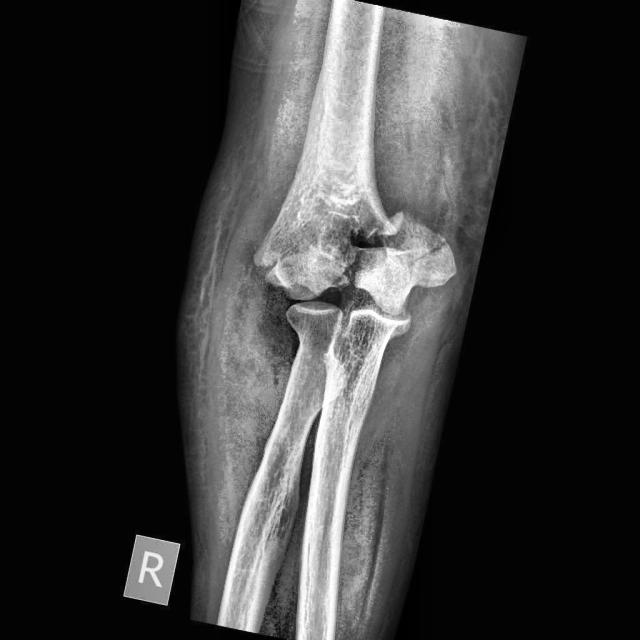elbow positive: (239, 236, 306, 298)
